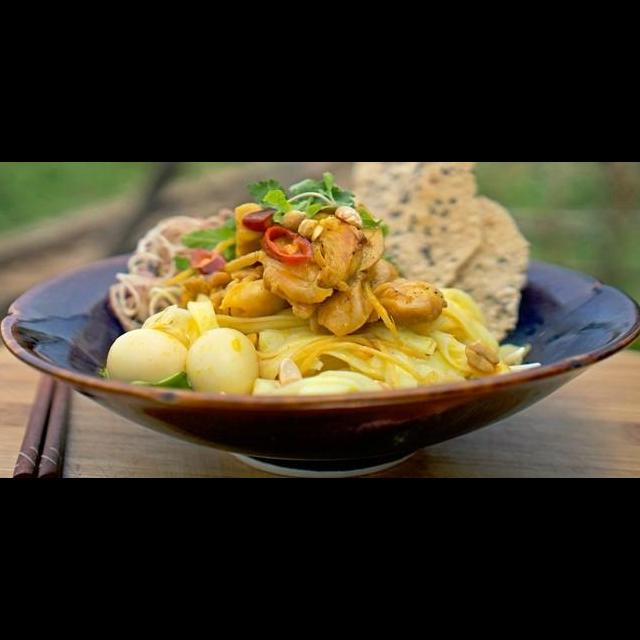banh da: (345, 163, 535, 350)
mi: (206, 278, 537, 404)
trung: (180, 323, 263, 401), (103, 325, 193, 394)
